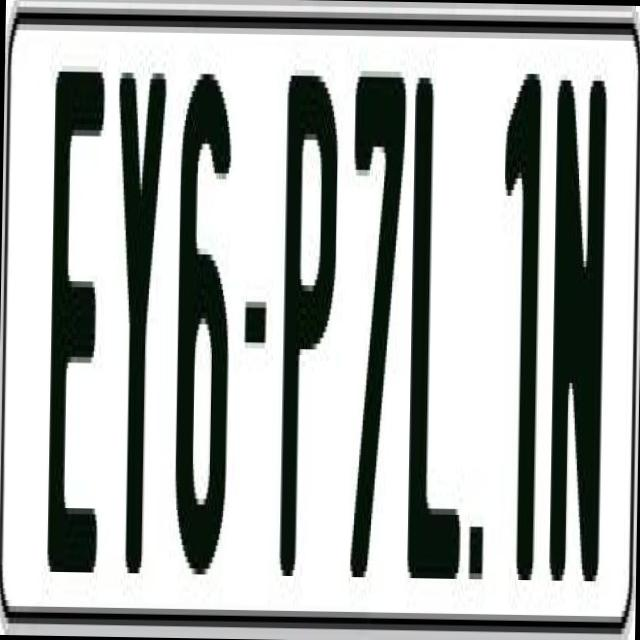1: (495, 73, 542, 580)
6: (169, 67, 228, 592)
7: (346, 58, 408, 590)
E: (46, 53, 106, 566)
L: (404, 60, 468, 584)
N: (544, 68, 606, 593)
P: (276, 75, 342, 612)
Y: (110, 54, 168, 574)
